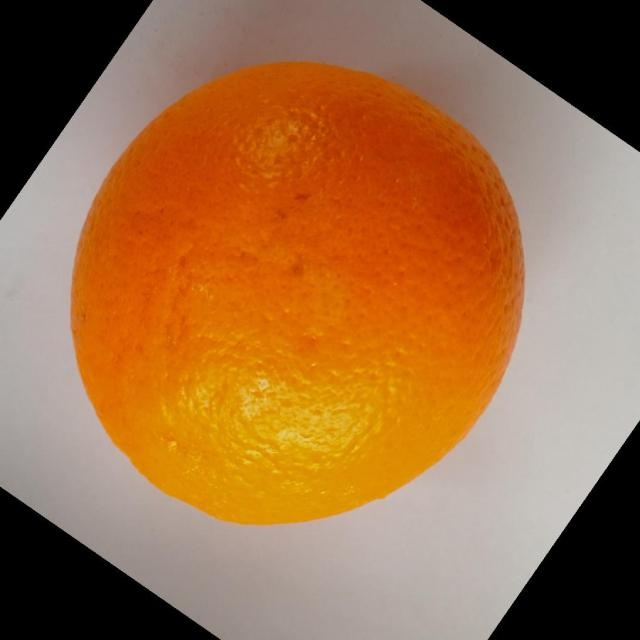agrume: (69, 59, 527, 526)
